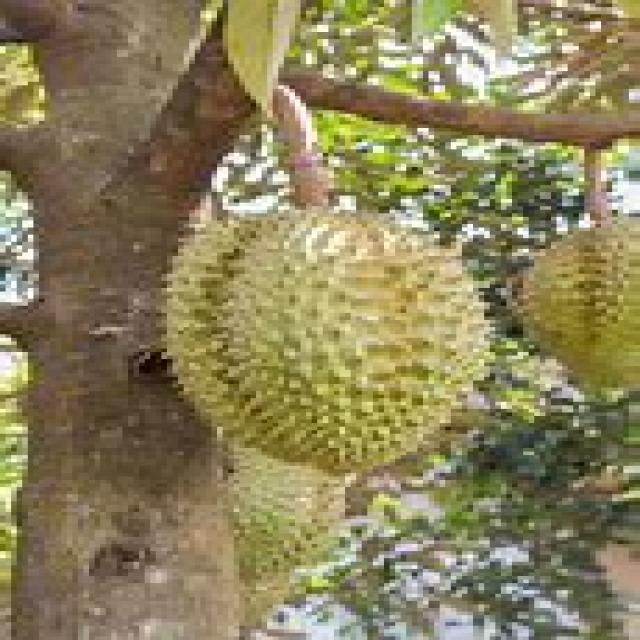mature: (168, 211, 485, 472)
